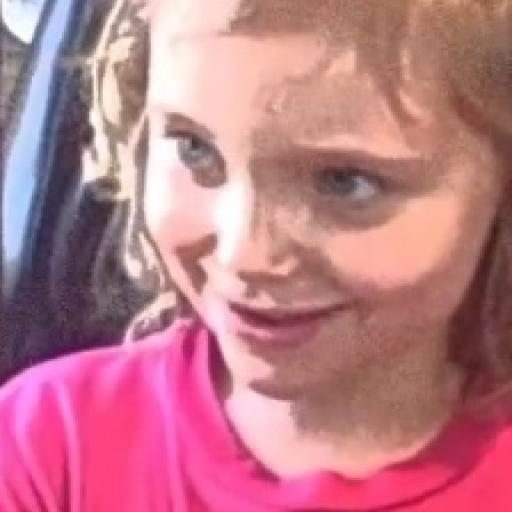Autism: (90, 0, 512, 512)
